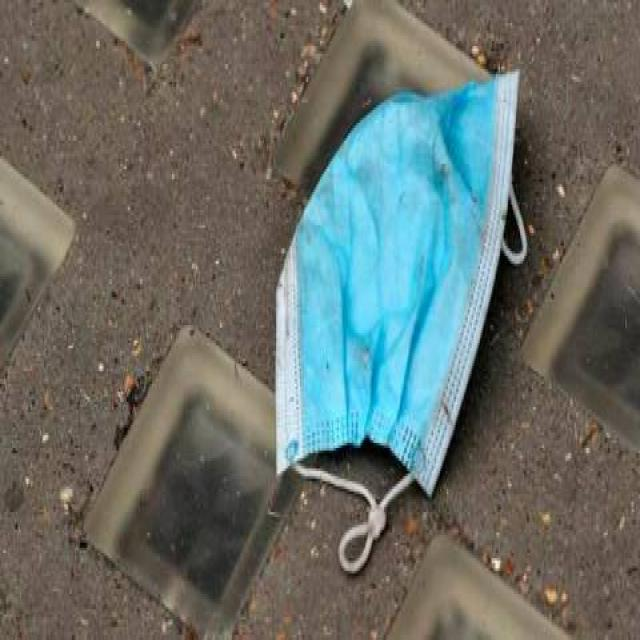non-organic waste: (269, 51, 524, 566)
